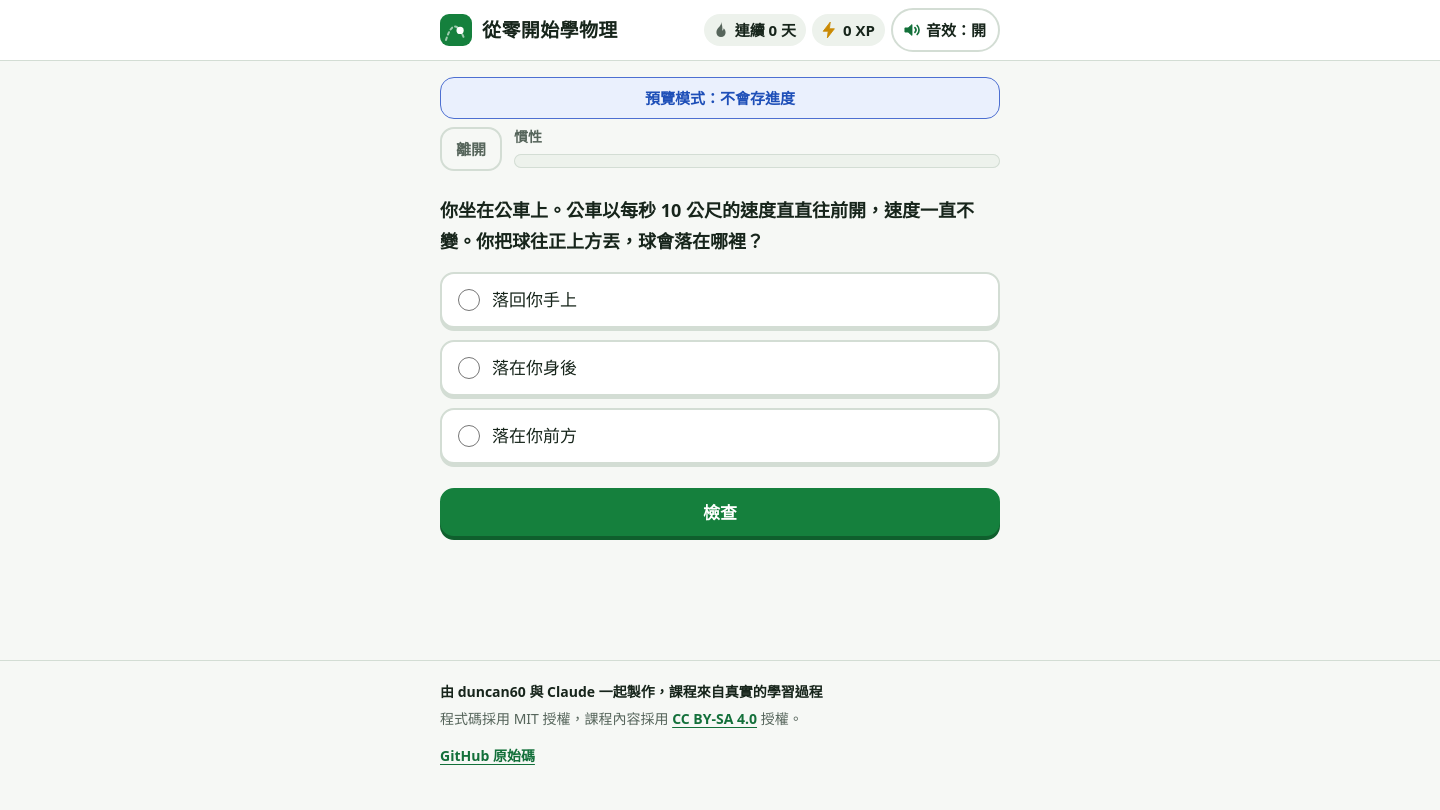
Test: 中途按「離開」：回到預覽頁，沒有存任何東西
Click the button "離開": coordinates (471, 149) [440,127,502,171]
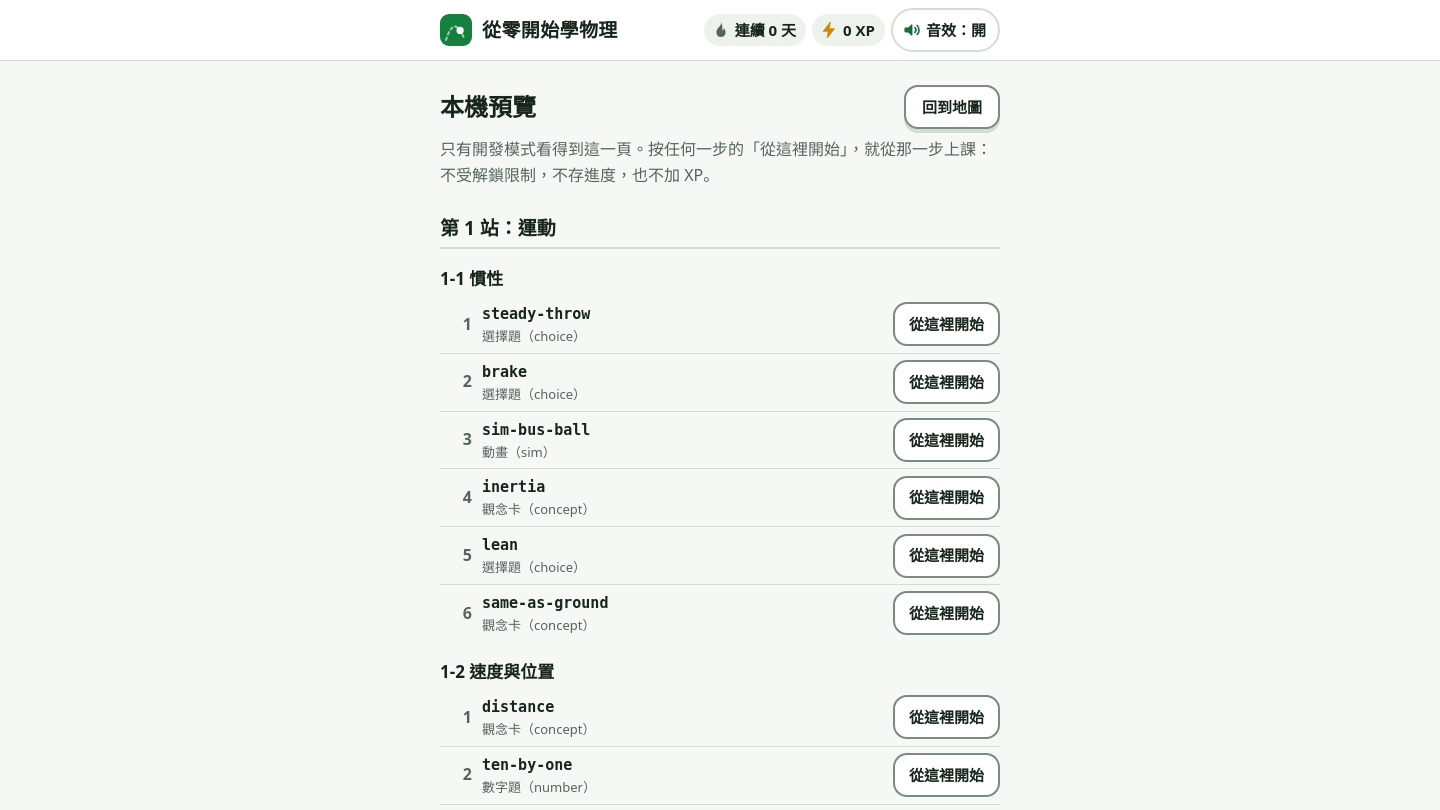
Result: the heading "本機預覽" is shown at [440,91,536,123]
